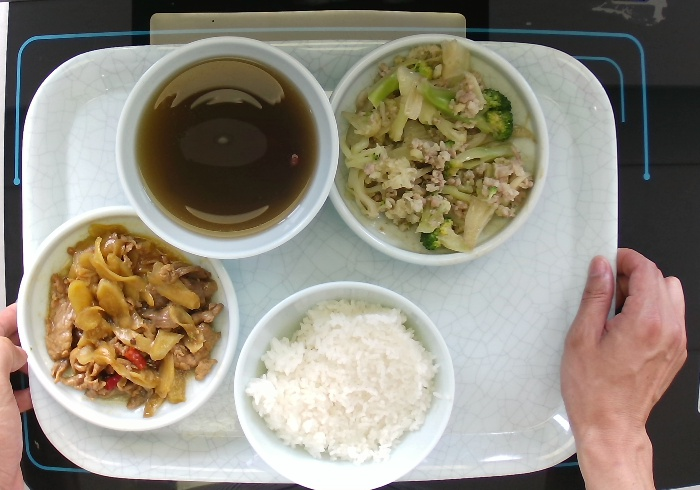JYsf-Fan_Wan: (112, 33, 342, 260), (231, 278, 457, 490)
JYsf-Xiao_Yuan_Pan: (326, 31, 551, 269), (14, 203, 241, 435)
